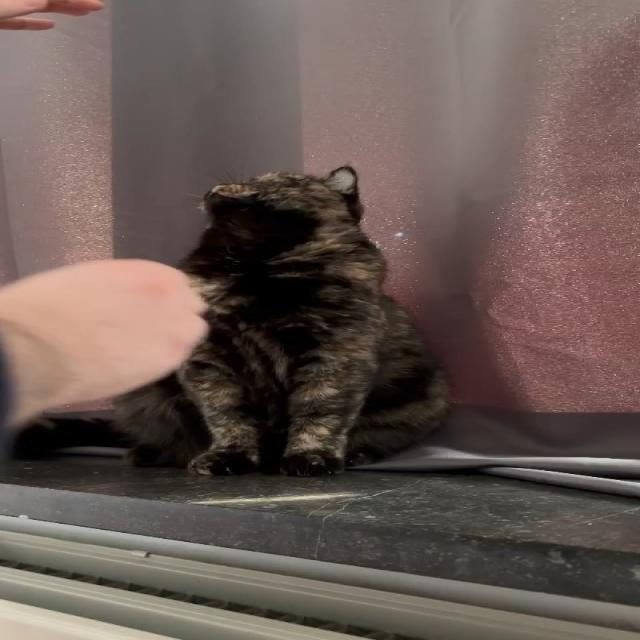authorized: (111, 165, 452, 477)
